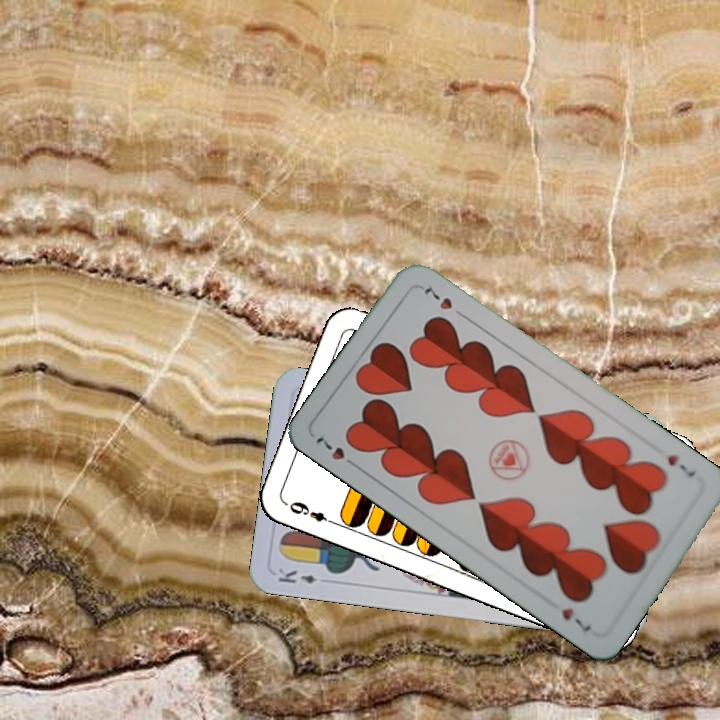E9: (285, 497, 339, 528)
EK: (274, 564, 320, 587)
H7: (311, 433, 362, 472), (663, 450, 698, 481)
